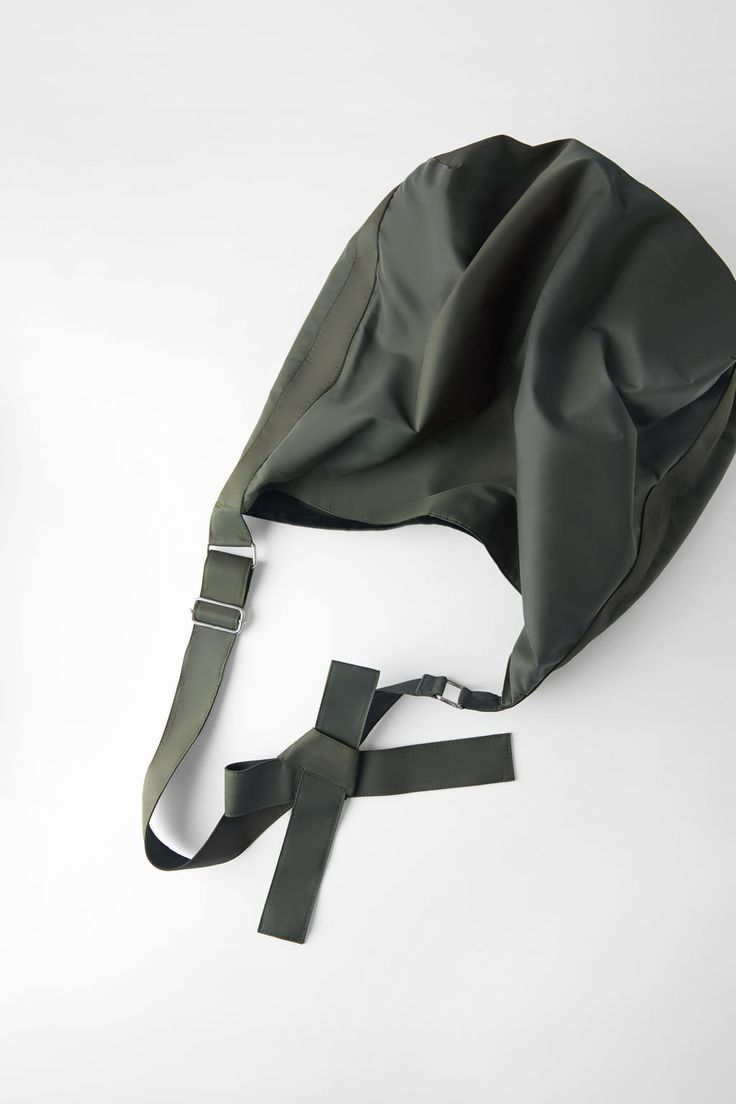nylon: (140, 132, 736, 944)
